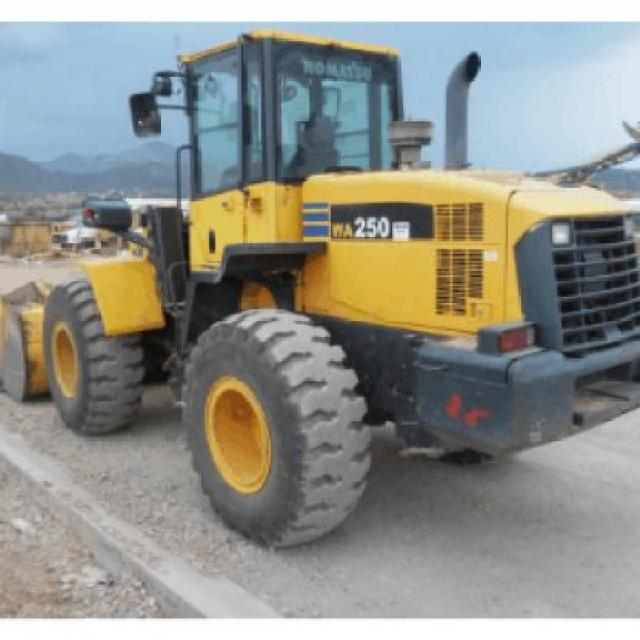buldozerpayloadergrader: (24, 21, 640, 543)
